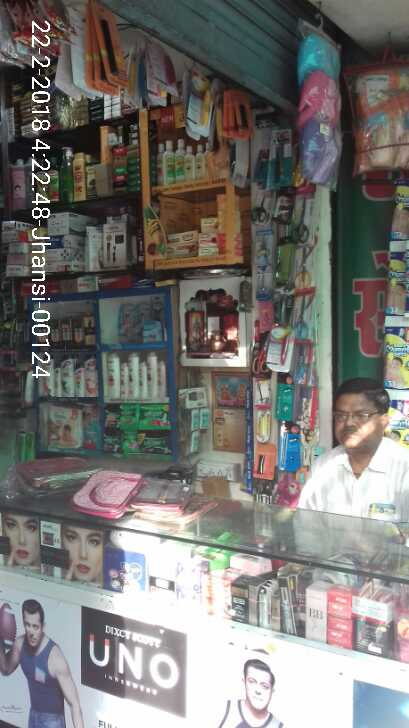venus: (117, 304, 132, 341), (142, 321, 162, 341), (132, 304, 142, 341), (152, 297, 165, 318)
